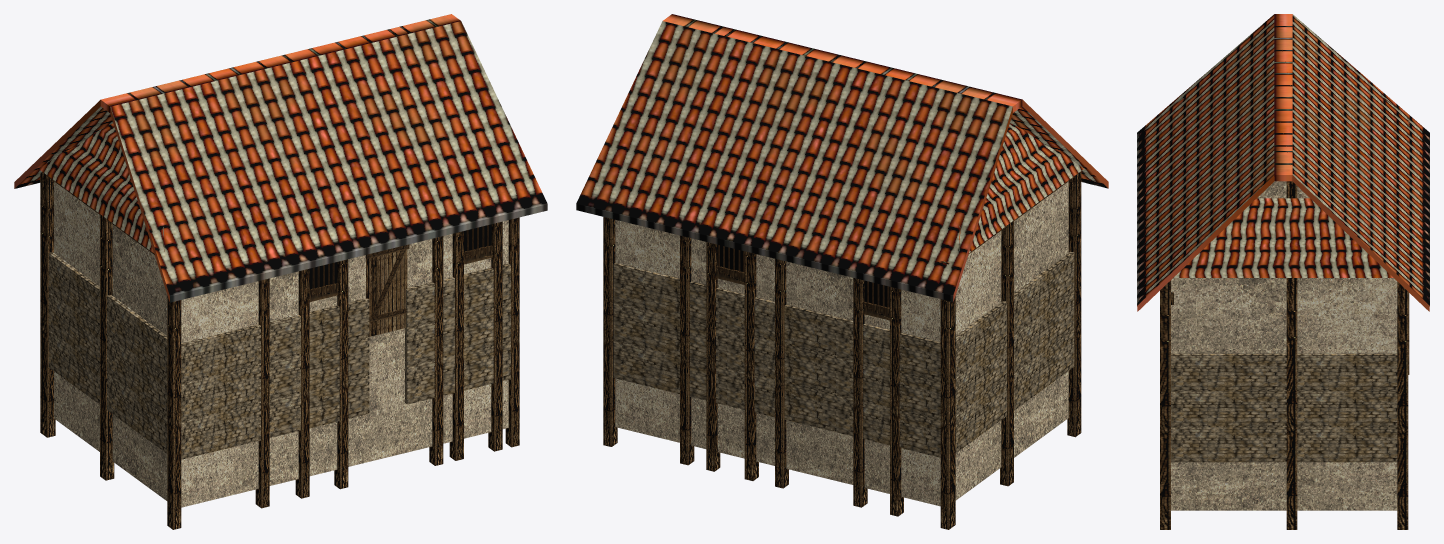
File: house_1.dae
The picture shows the model from 3 angles, left to right: view 1: azimuth 30°, elevation 25°; view 2: azimuth 150°, elevation 25°; view 3: azimuth 270°, elevation 25°; orthographic projection. The views are drawn at different scales.
Visible parts, largest first — view 1: house_1; view 2: house_1; view 3: house_1.
Part boxes in pixels (x1,y1,x2,y2): house_1: (14,14,547,529); house_1: (576,14,1108,529); house_1: (1137,14,1429,529).
Bounding box in the file's own units: 16.09 × 11.5 × 15.44.
